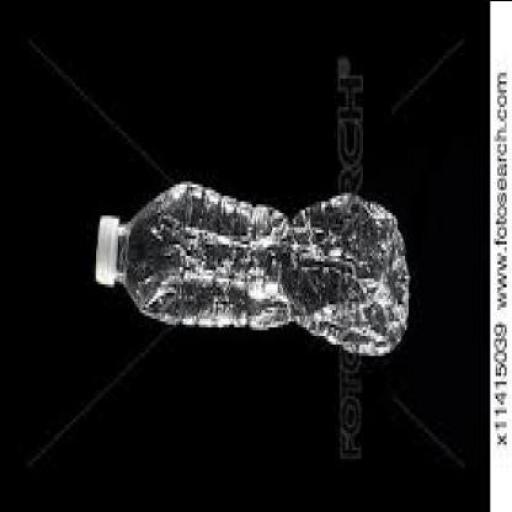plastic: (91, 186, 409, 360), (93, 217, 120, 289)
